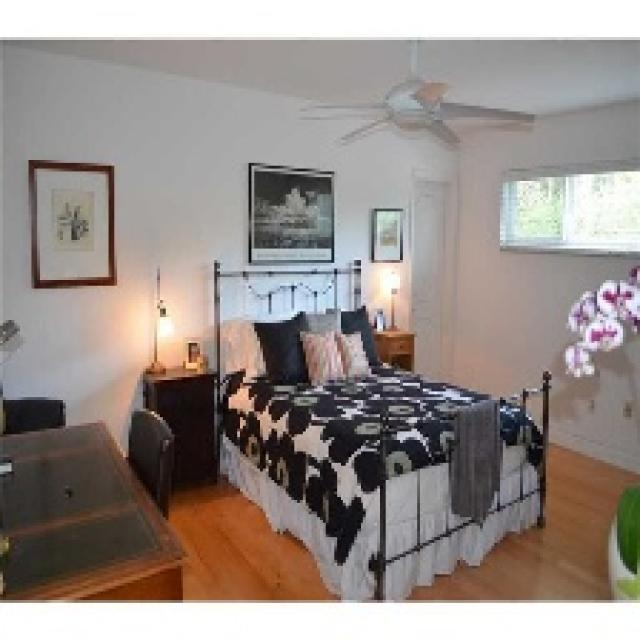Bed: (212, 257, 552, 600)
